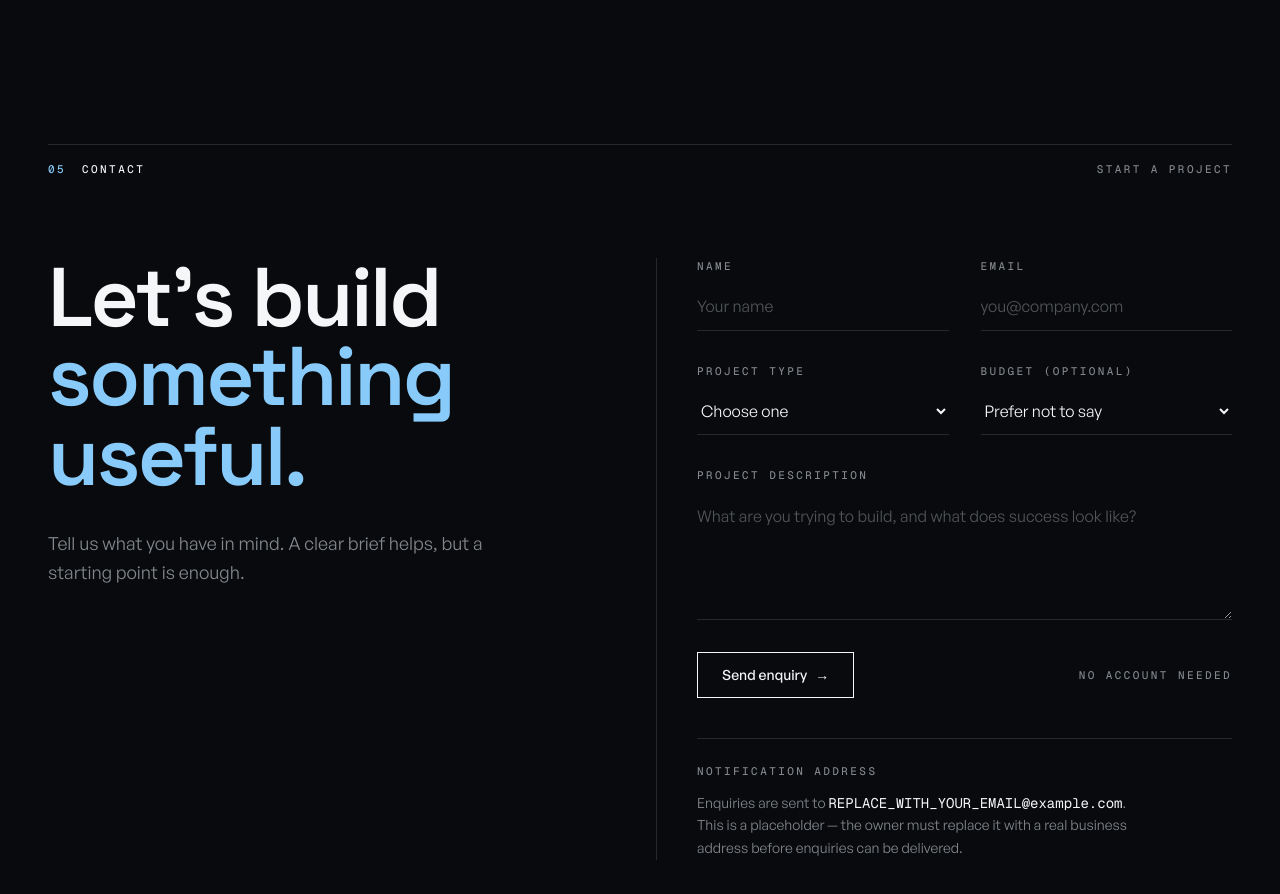
Test: ContactSection › submits trimmed values and shows the success state only on ok
Type "  Ada Lovelace  " into the field labelled "Name" at (823, 306), box [697,282,948,331]
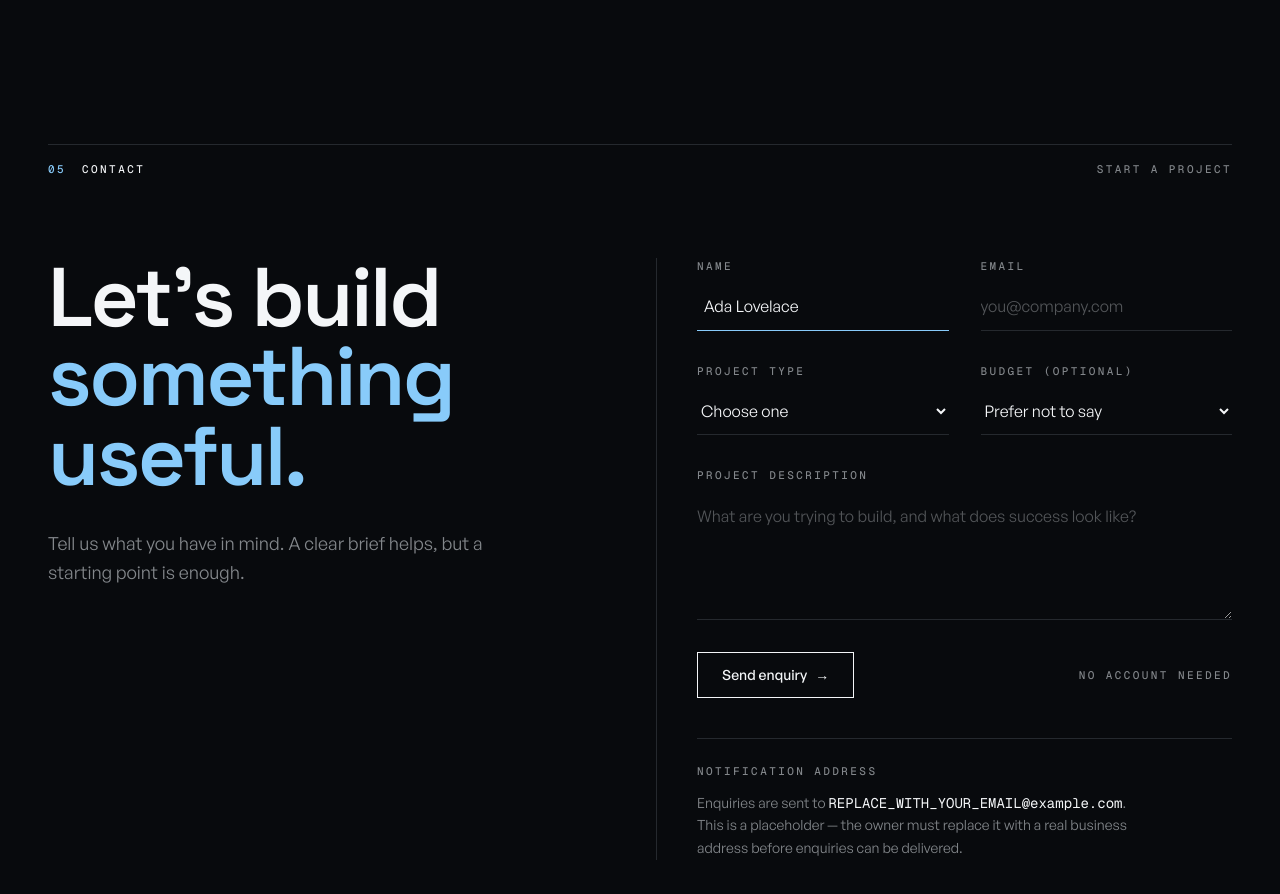
Type " ada@example.com " into the field labelled "Email" at (1106, 306), box [980,282,1232,331]
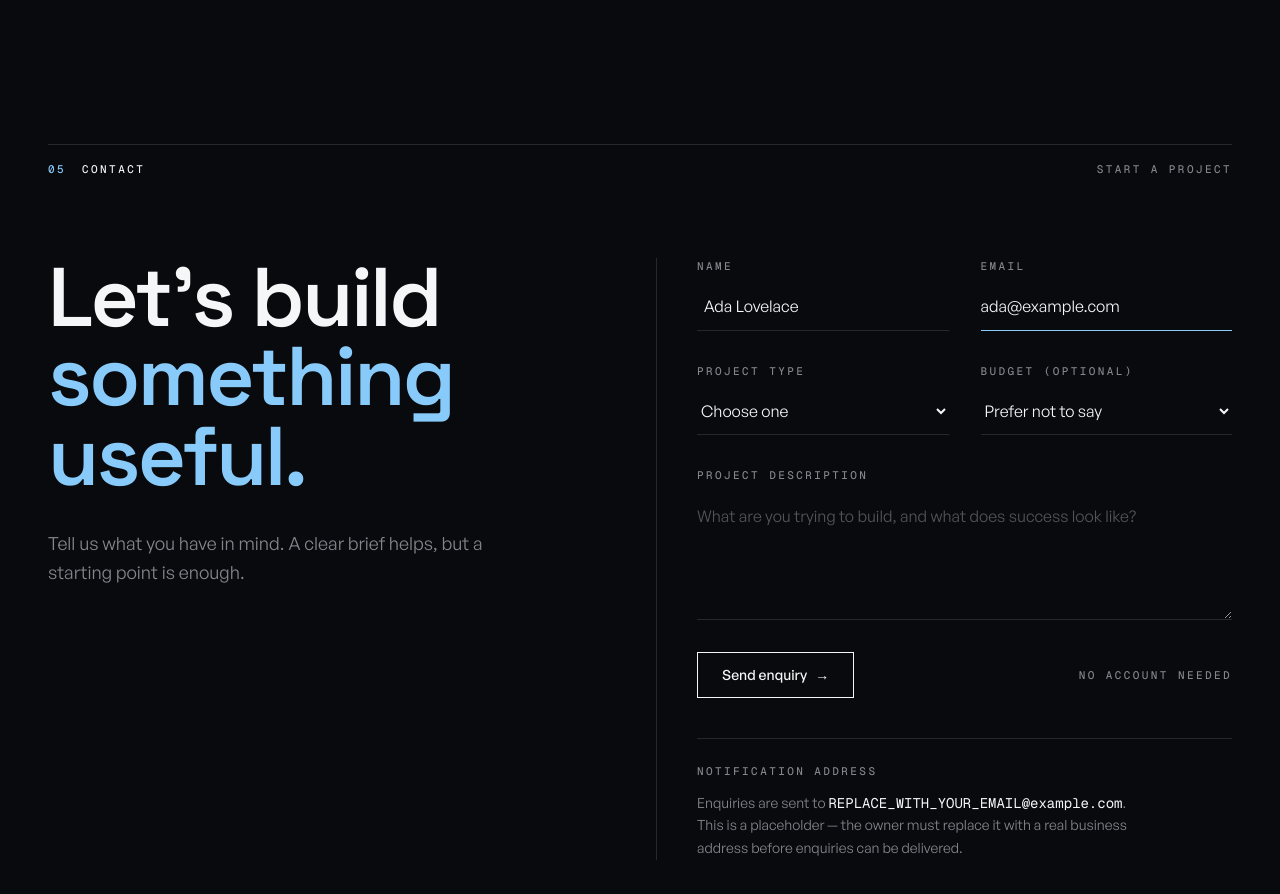
Select "Website" in the dropdown labelled "Project type" at (823, 411), box [697,388,948,434]
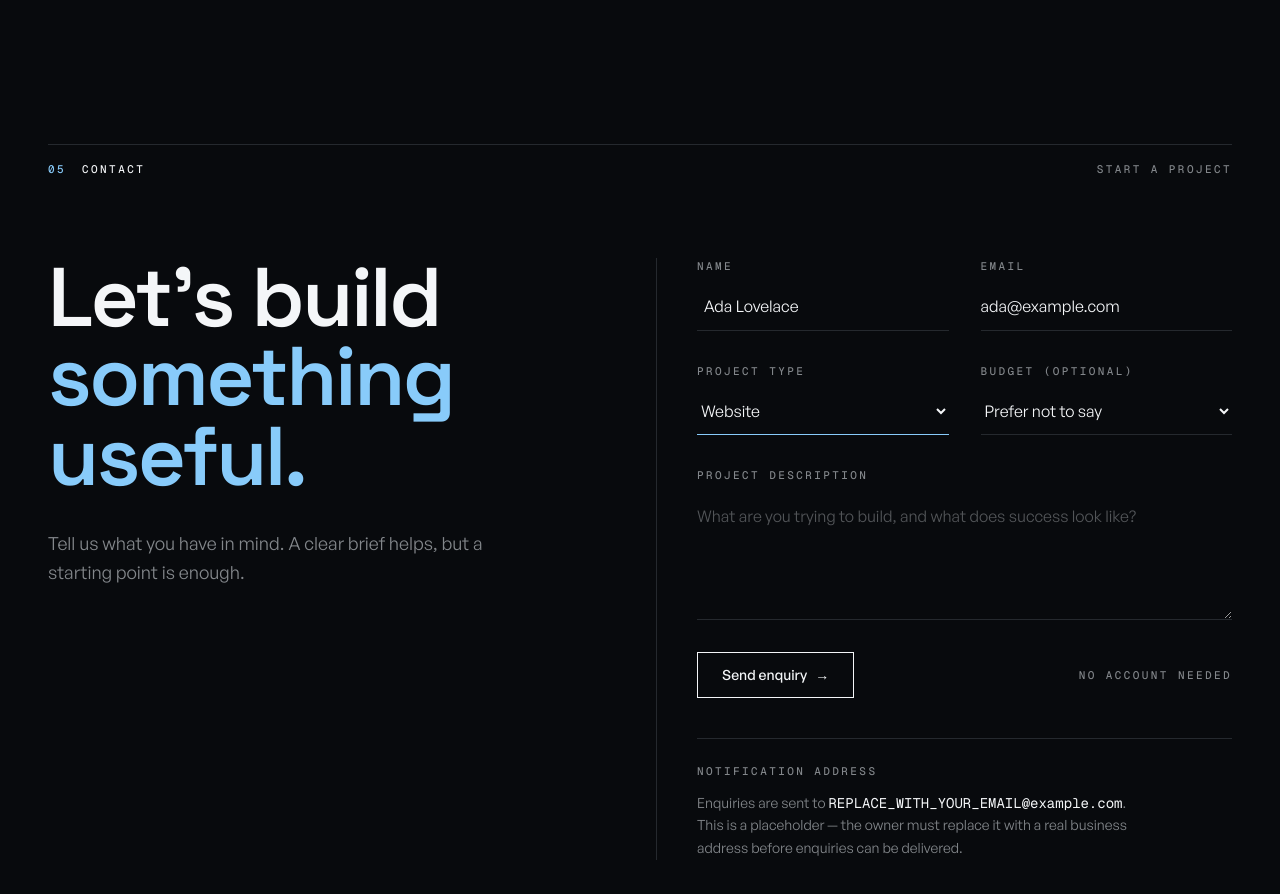
Type "  A new marketing site.  " into the text box labelled "Project description" at (964, 556), box [697,491,1232,620]
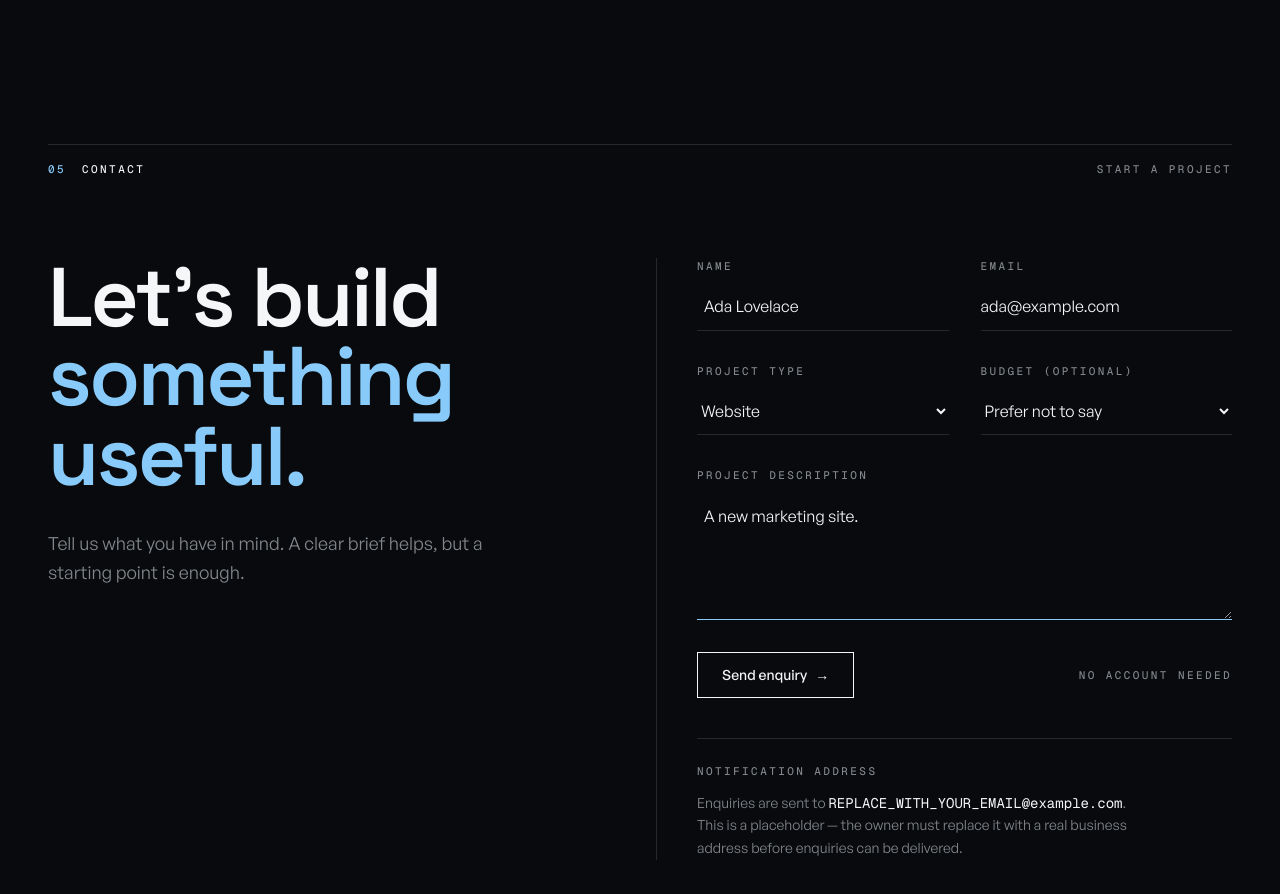
Click the button "Send enquiry →" at (776, 675), box [697,652,854,698]
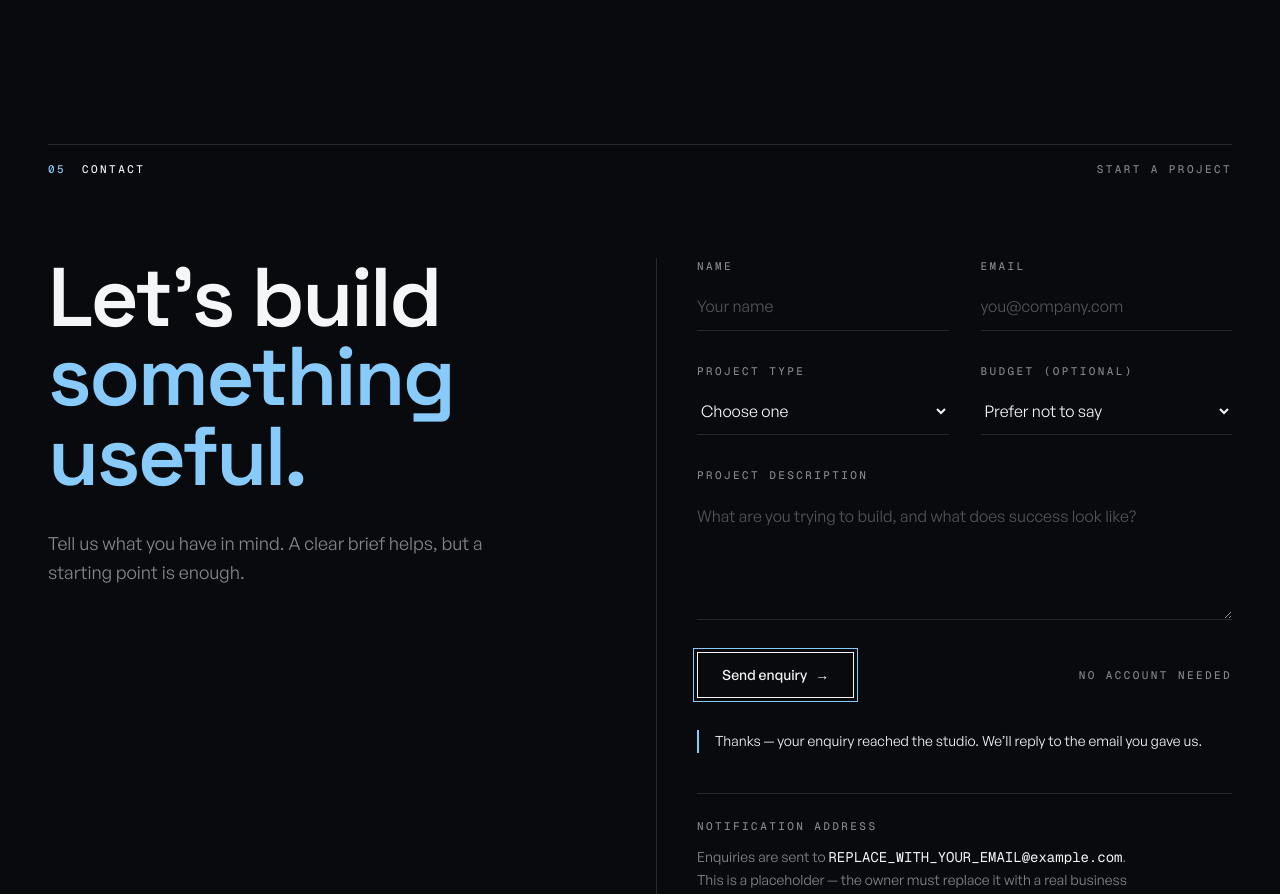
Now the text "your enquiry reached the studio" is shown, box [715,732,1202,749]
